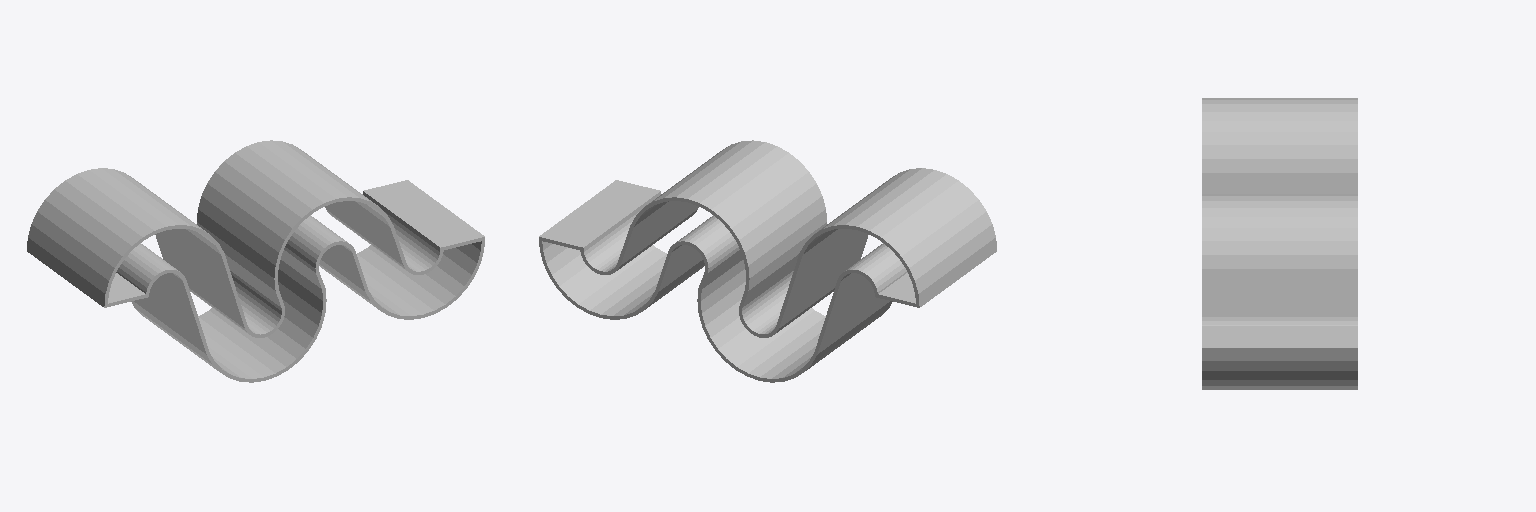
Rendered from symbol3D.obj.
3 views of the same model, side by side, from view 1: azimuth 30°, elevation 25°; view 2: azimuth 150°, elevation 25°; view 3: azimuth 270°, elevation 25° (orthographic).
Visible parts, largest first — view 1: Plane; view 2: Plane; view 3: Plane.
Boxes of the visible parts, box(x1,y1,x2,y2) form: Plane: box(27, 140, 484, 382); Plane: box(539, 140, 996, 382); Plane: box(1202, 98, 1357, 389).
Size of the model in its own units: 4.51 by 2.02 by 1.59.